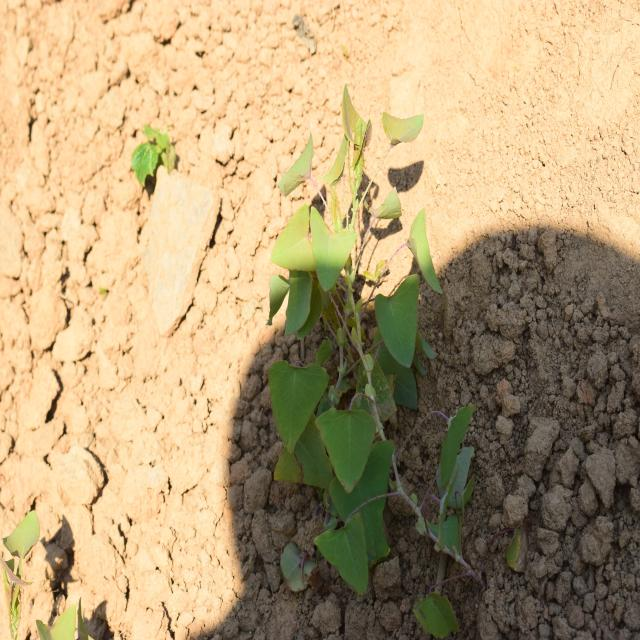Asiatic_Smartweed: (260, 114, 430, 494)
